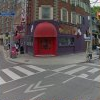crosswalk: (0, 64, 45, 85), (52, 62, 100, 81)
